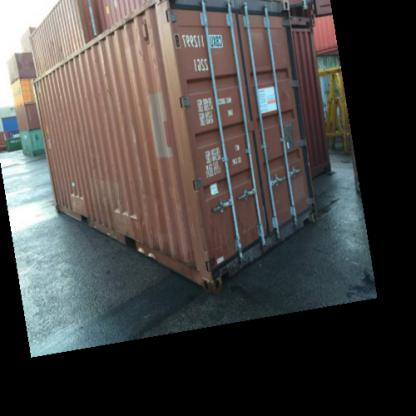Damage: (65, 177, 93, 207), (110, 206, 145, 224)
